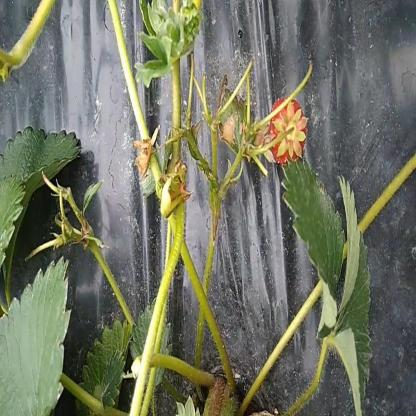ripe: (270, 97, 309, 168)
